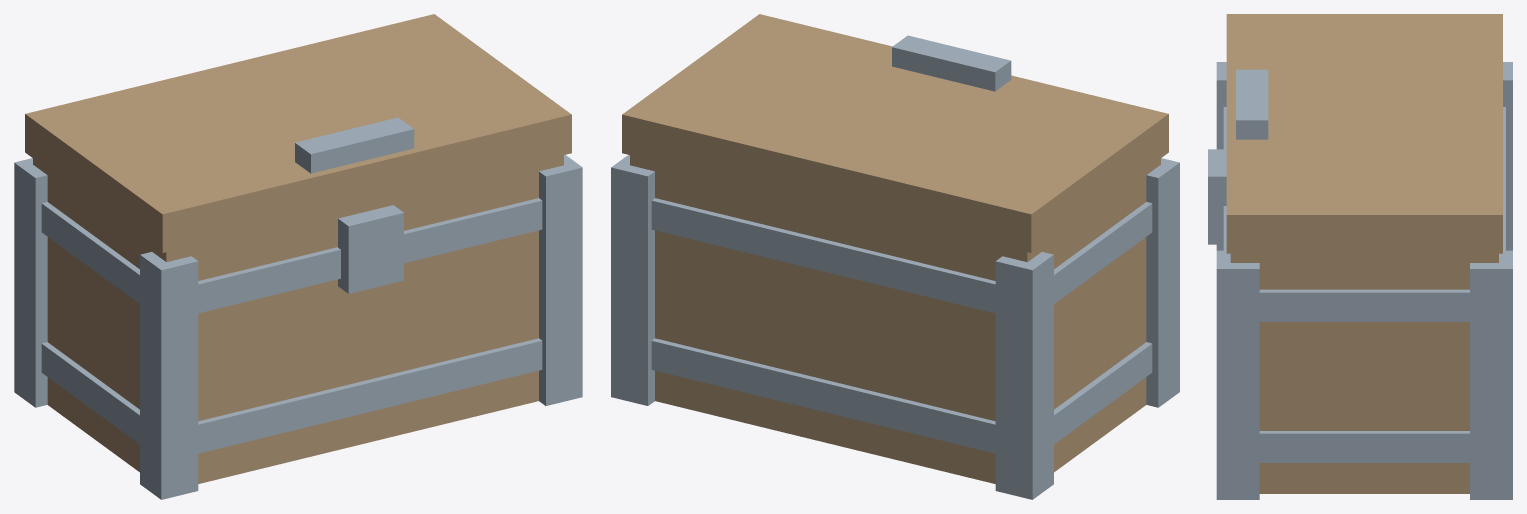
Rendered from wipe-day-survival-island-small-wooden-storage-box-9a331127__27461.glb.
3 views of the same model, side by side, from view 1: azimuth 30°, elevation 25°; view 2: azimuth 150°, elevation 25°; view 3: azimuth 270°, elevation 25° (orthographic).
Parts seen in each view (by area): view 1: small-wooden-storage-box, lid/wood, lid/metal; view 2: small-wooden-storage-box, lid/wood, lid/metal; view 3: small-wooden-storage-box, lid/wood, lid/metal.
Boxes of the visible parts, x1=… form: small-wooden-storage-box: x1=14, y1=155, x2=582, y2=499; lid/wood: x1=25, y1=14, x2=571, y2=252; lid/metal: x1=295, y1=117, x2=414, y2=173; small-wooden-storage-box: x1=611, y1=155, x2=1179, y2=499; lid/wood: x1=622, y1=14, x2=1168, y2=252; lid/metal: x1=892, y1=35, x2=1011, y2=91; small-wooden-storage-box: x1=1208, y1=62, x2=1512, y2=499; lid/wood: x1=1226, y1=14, x2=1502, y2=253; lid/metal: x1=1236, y1=69, x2=1268, y2=139.
Size of the model in its own units: 0.912 by 0.62 by 0.568.
